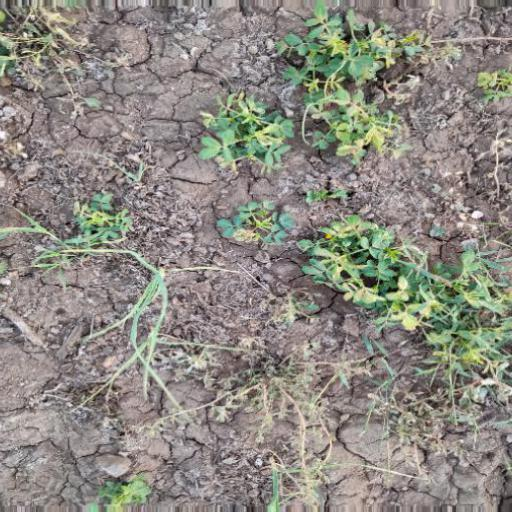weed: (25, 200, 254, 483), (173, 15, 512, 198), (305, 207, 512, 405)
